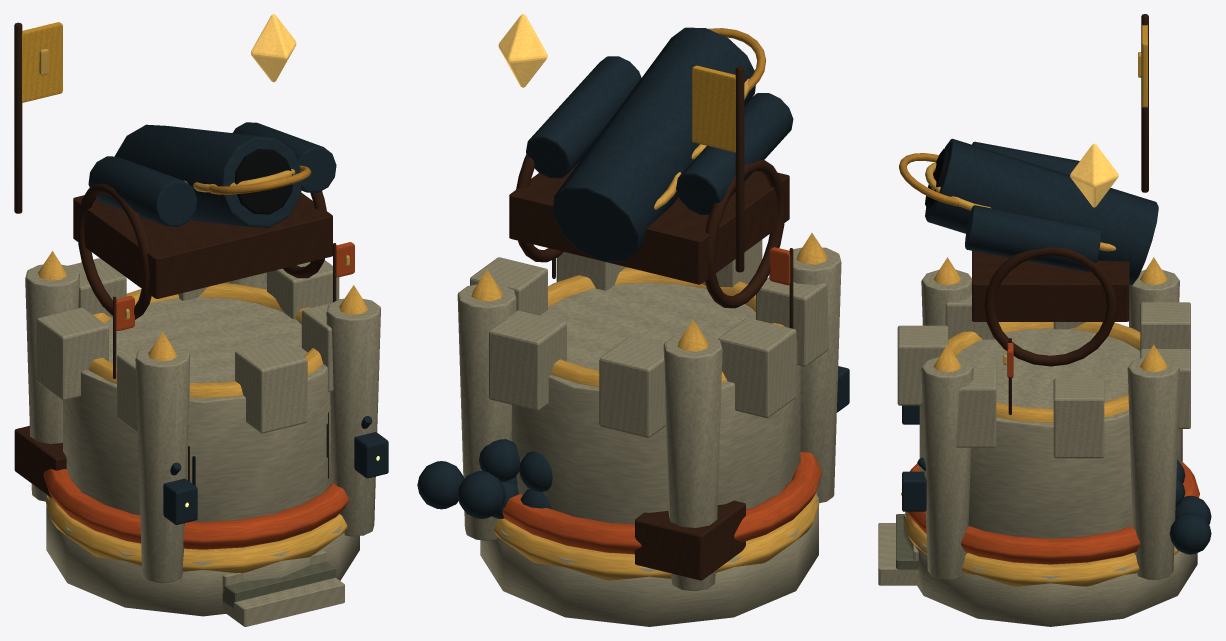
The model's file is tower-cannon-3-1.glb.
3 renders of one model, left to right at view 1: azimuth 30°, elevation 25°; view 2: azimuth 150°, elevation 25°; view 3: azimuth 270°, elevation 25°, orthographic. The views are drawn at different scales.
Parts seen in each view (by area): view 1: Foundation, Turret, cannon-L3-1; view 2: Foundation, Turret, cannon-L3-1; view 3: Foundation, Turret, cannon-L3-1.
Part boxes in pixels (x1,y1,x2,y2): Foundation: [14, 22, 388, 626]; Turret: [73, 14, 336, 319]; cannon-L3-1: [46, 495, 359, 616]; Foundation: [417, 65, 849, 590]; Turret: [498, 14, 793, 308]; cannon-L3-1: [480, 493, 818, 626]; Foundation: [878, 14, 1211, 586]; Turret: [899, 138, 1158, 366]; cannon-L3-1: [903, 512, 1197, 626].
Size of the model in its own units: 1.71 by 3.09 by 1.91.
Materials: 17 (17 with a texture image).
